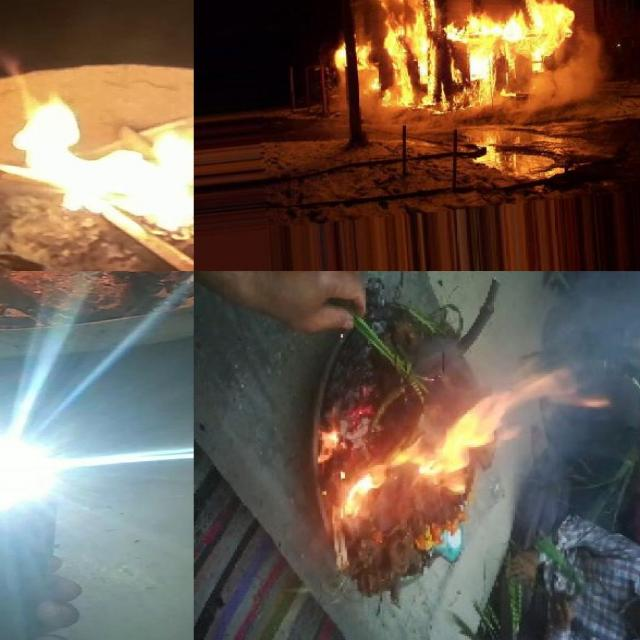fire: (5, 89, 194, 238), (386, 415, 508, 494), (369, 0, 447, 104), (312, 432, 386, 528), (474, 363, 610, 415), (448, 0, 578, 50), (449, 50, 522, 113), (332, 37, 370, 71)
smoke: (512, 413, 594, 505), (522, 50, 620, 122), (568, 271, 640, 363), (368, 105, 438, 142), (327, 72, 369, 132), (611, 362, 640, 416)
